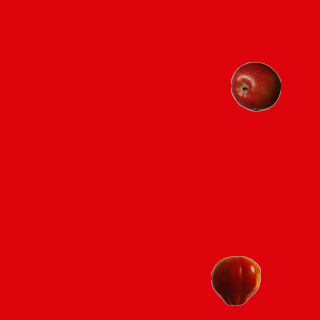Apple Braeburn: (230, 61, 280, 111)
Tomato 1: (210, 255, 260, 305)
